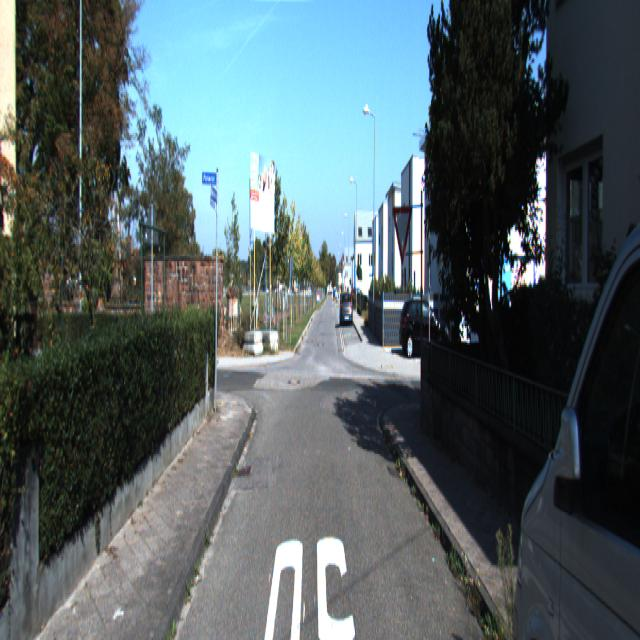Car: (399, 294, 451, 363), (340, 290, 353, 326)
DontCare: (502, 153, 639, 637)
